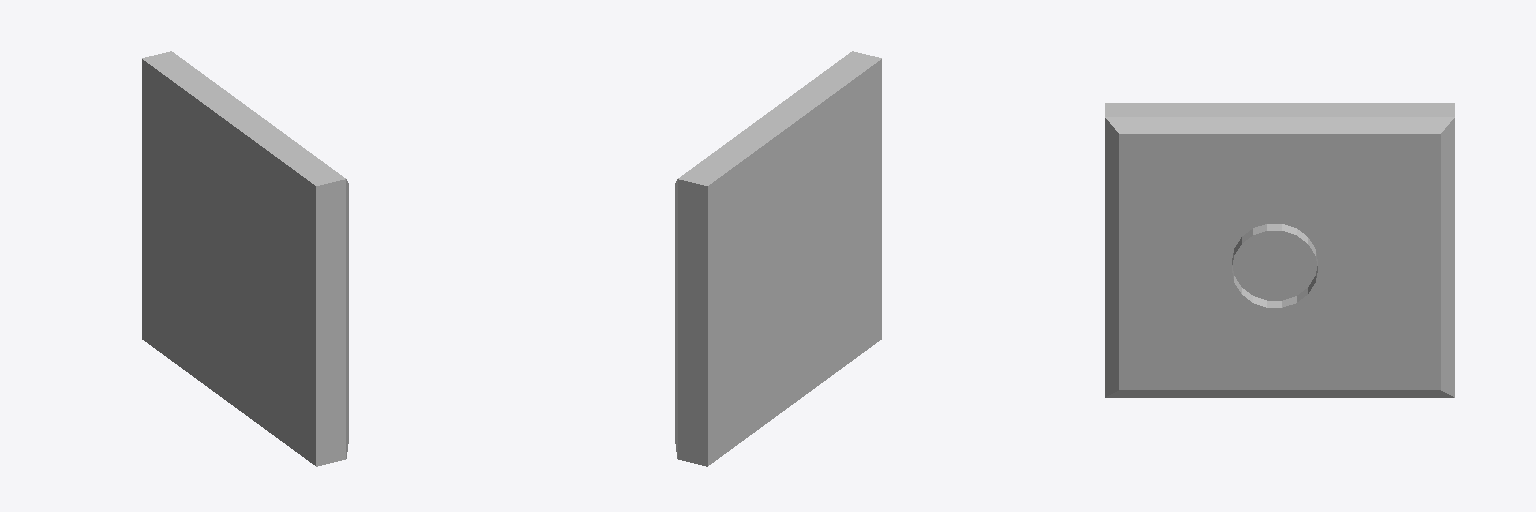
Rendered from Body wheel attachment right.obj.
The picture shows the model from 3 angles: view 1: azimuth 30°, elevation 25°; view 2: azimuth 150°, elevation 25°; view 3: azimuth 270°, elevation 25°; orthographic projection.
Parts seen in each view (by area): view 1: Body_wheel_attachment_right_Cube; view 2: Body_wheel_attachment_right_Cube; view 3: Body_wheel_attachment_right_Cube.
Part boxes in pixels (x1,y1,x2,y2): Body_wheel_attachment_right_Cube: (142,51,348,466); Body_wheel_attachment_right_Cube: (675,51,881,466); Body_wheel_attachment_right_Cube: (1105,103,1454,397).
Bounding box in the file's own units: 0.3132 × 1.55 × 1.75.